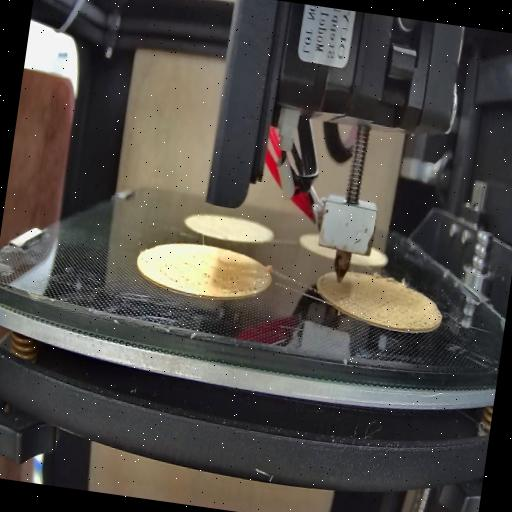under_extrusion: (150, 259, 261, 299), (372, 302, 438, 335), (331, 290, 348, 309)
